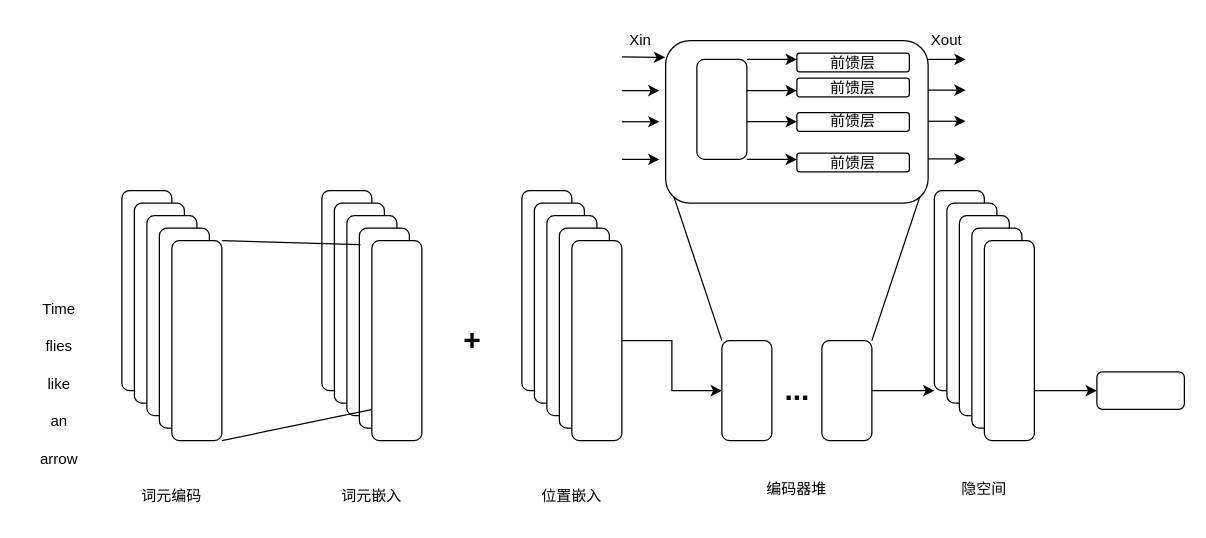
The diagram is 1206 pixels wide and 538 high, and some of its shapes have lost their labels. Each missing label, with the centre of its shape:
K,V: the point at 1140,390
多头注意力: the point at 721,108
